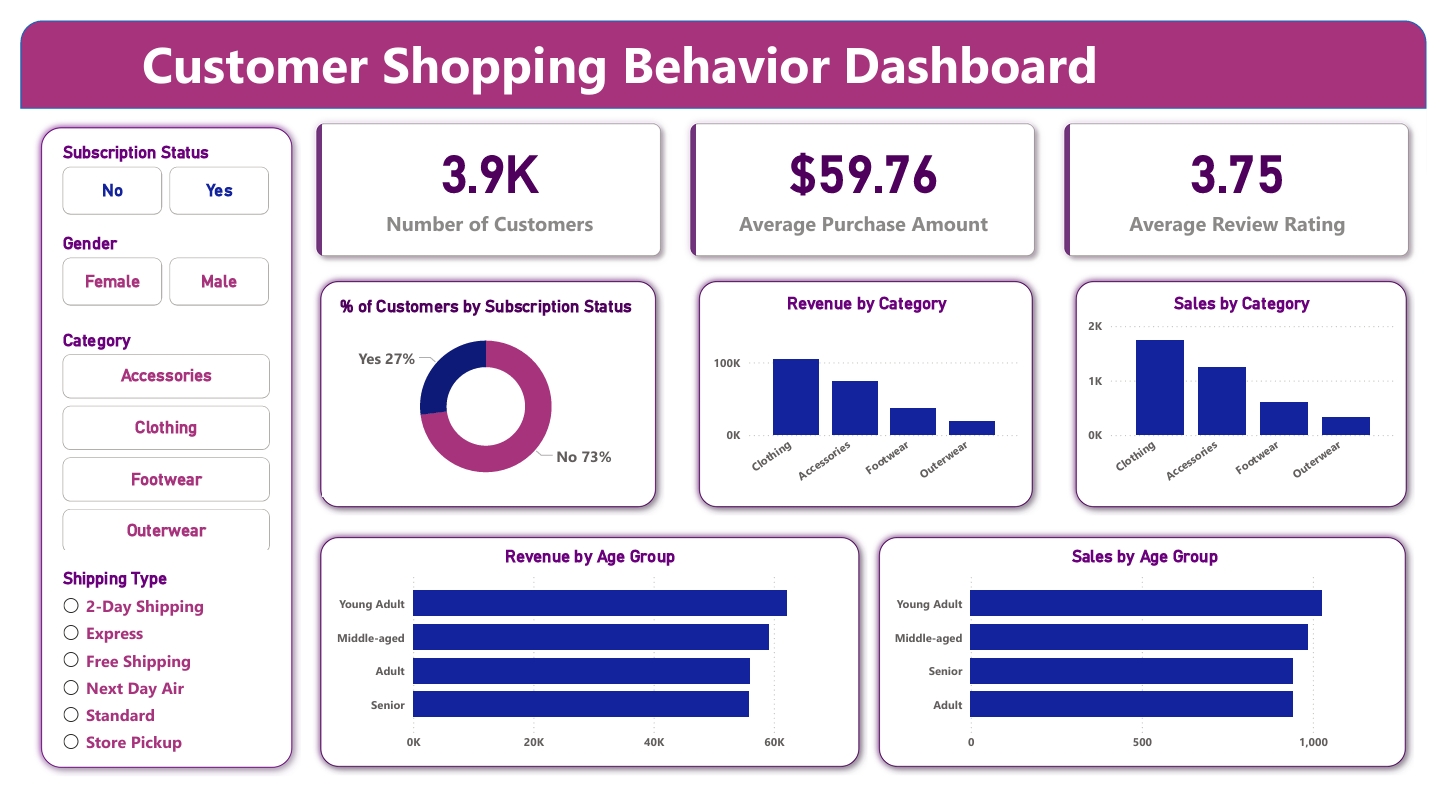

What the dashboard file says about the page in this screenshot:
{"tool":"powerbi","page":{"name":"Page 1","canvas":[1500,820],"ordinal":0},"visuals":[{"type":"cardVisual","fields":{"Data":["public customer.Number of Customers","public customer.Average Purchase Amount","public customer.Average Review Rating"]},"box":[299.4,93.3,1200.5,175.5],"z":0},{"type":"shape","box":[0,0,1500,93.5],"z":1000},{"type":"textbox","box":[106.9,4.3,1064.8,84.1],"z":2000},{"type":"shape","box":[310.7,268.9,375.8,258.9],"z":3000},{"type":"donutChart","title":"% of Customers by Subscription Status","fields":{"Category":["public customer.subscription_status"],"Y":["CountNonNull(public customer.customer_id)"]},"box":[322.4,294,349.1,213.8],"z":4000},{"type":"shape","box":[714.9,268.9,374.2,258.9],"z":5000},{"type":"shape","box":[1117.5,268.9,370.8,258.9],"z":6000},{"type":"clusteredColumnChart","title":"Revenue by Category","fields":{"Y":["Sum(public customer.purchase_amount)"],"Category":["public customer.category"]},"box":[733.9,291.1,338.4,217.3],"z":7000},{"type":"clusteredColumnChart","title":"Sales by Category","fields":{"Y":["CountNonNull(public customer.customer_id)"],"Category":["public customer.category"]},"box":[1133.7,291.1,339.3,217.1],"z":8000},{"type":"shape","box":[12.9,104.5,286.2,701.1],"z":9000},{"type":"advancedSlicerVisual","title":"Subscription Status","fields":{"Values":["public customer.subscription_status"]},"box":[40.2,130.3,231.6,82],"z":10000},{"type":"advancedSlicerVisual","title":"Gender","fields":{"Values":["public customer.gender"]},"box":[40.2,226.7,231.6,82],"z":11000},{"type":"advancedSlicerVisual","title":"Category","fields":{"Values":["public customer.category"]},"box":[40.2,329.7,231.6,242.8],"z":12000},{"type":"listSlicer","title":"Shipping Type","fields":{"Values":["public customer.shipping_type"]},"box":[40.2,583.7,231.6,204.2],"z":13000},{"type":"shape","box":[310.6,541.7,593.3,263.2],"z":14000},{"type":"clusteredBarChart","title":"Revenue by Age Group","fields":{"Y":["Sum(public customer.purchase_amount)"],"Category":["public customer.age_group"]},"box":[331.5,559.9,552.9,228.4],"z":15000},{"type":"shape","box":[906.6,541.7,580.7,263.2],"z":16000},{"type":"clusteredBarChart","title":"Sales by Age Group","fields":{"Y":["CountNonNull(public customer.customer_id)"],"Category":["public customer.age_group"]},"box":[926.1,559.9,547.3,228.4],"z":17000}]}

Visuals, with their boxes in screenshot pixels (x1, y1, x2, y2), scaled from the page's 1500x820 canvas onto the 1444x811 screenshot:
cardVisual - public customer.Number of Customers x public customer.Average Purchase Amount: box(288, 92, 1443, 266)
shape: box(0, 0, 1443, 92)
textbox: box(103, 4, 1128, 87)
shape: box(299, 266, 661, 522)
"% of Customers by Subscription Status" donutChart: box(310, 291, 646, 502)
shape: box(688, 266, 1048, 522)
shape: box(1076, 266, 1433, 522)
"Revenue by Category" clusteredColumnChart: box(707, 288, 1032, 503)
"Sales by Category" clusteredColumnChart: box(1091, 288, 1418, 503)
shape: box(12, 103, 288, 797)
"Subscription Status" advancedSlicerVisual: box(39, 129, 262, 210)
"Gender" advancedSlicerVisual: box(39, 224, 262, 305)
"Category" advancedSlicerVisual: box(39, 326, 262, 566)
"Shipping Type" listSlicer: box(39, 577, 262, 779)
shape: box(299, 536, 870, 796)
"Revenue by Age Group" clusteredBarChart: box(319, 554, 851, 780)
shape: box(873, 536, 1432, 796)
"Sales by Age Group" clusteredBarChart: box(892, 554, 1418, 780)
